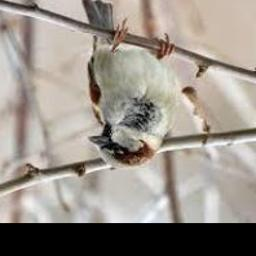Sparrow: (81, 0, 176, 169)
